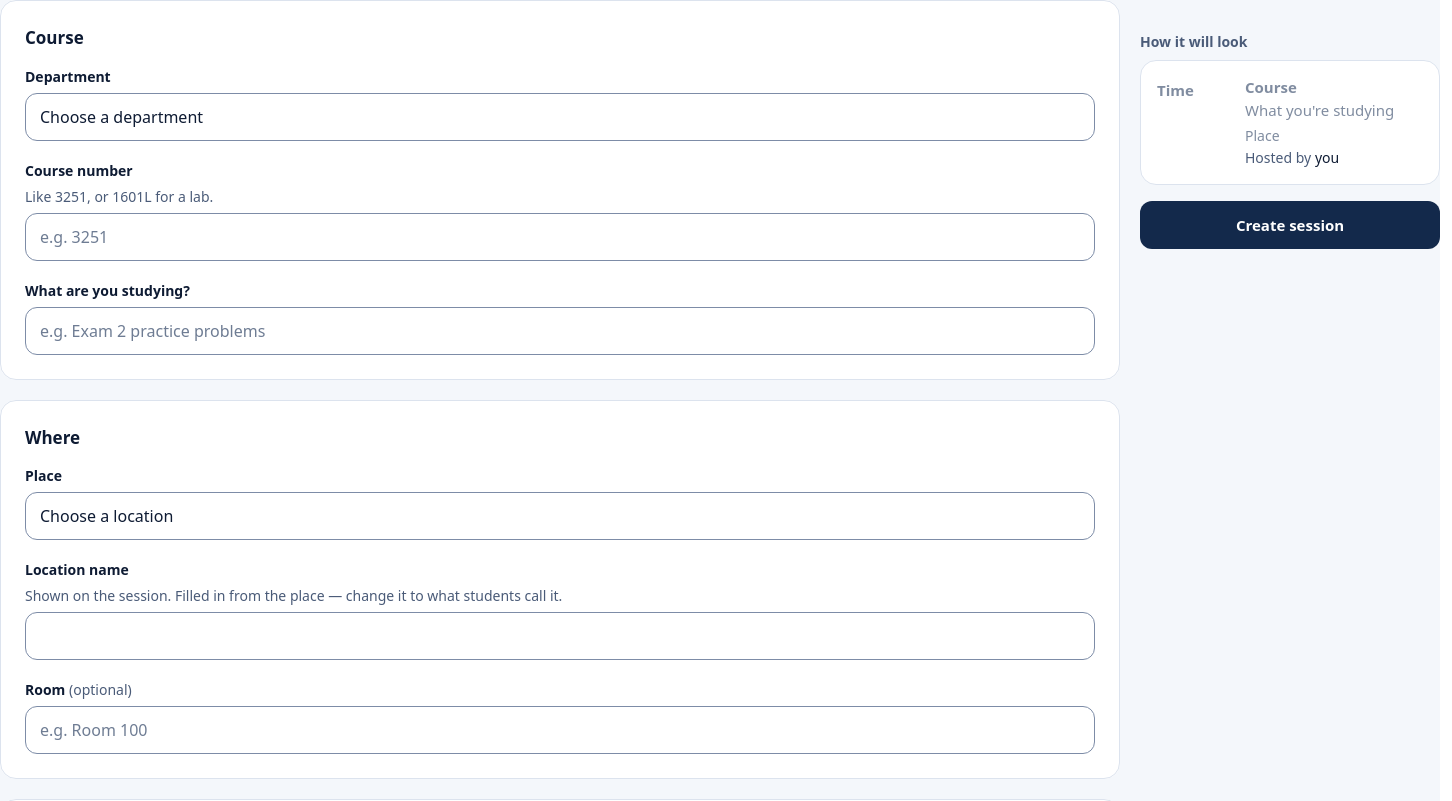
Scenario: <CreateSessionForm> course typeahead › looks courses up in a department the host is adding
Select "Add a department…" in the dropdown labelled "Department" at point(560, 116), box [25,92,1095,140]
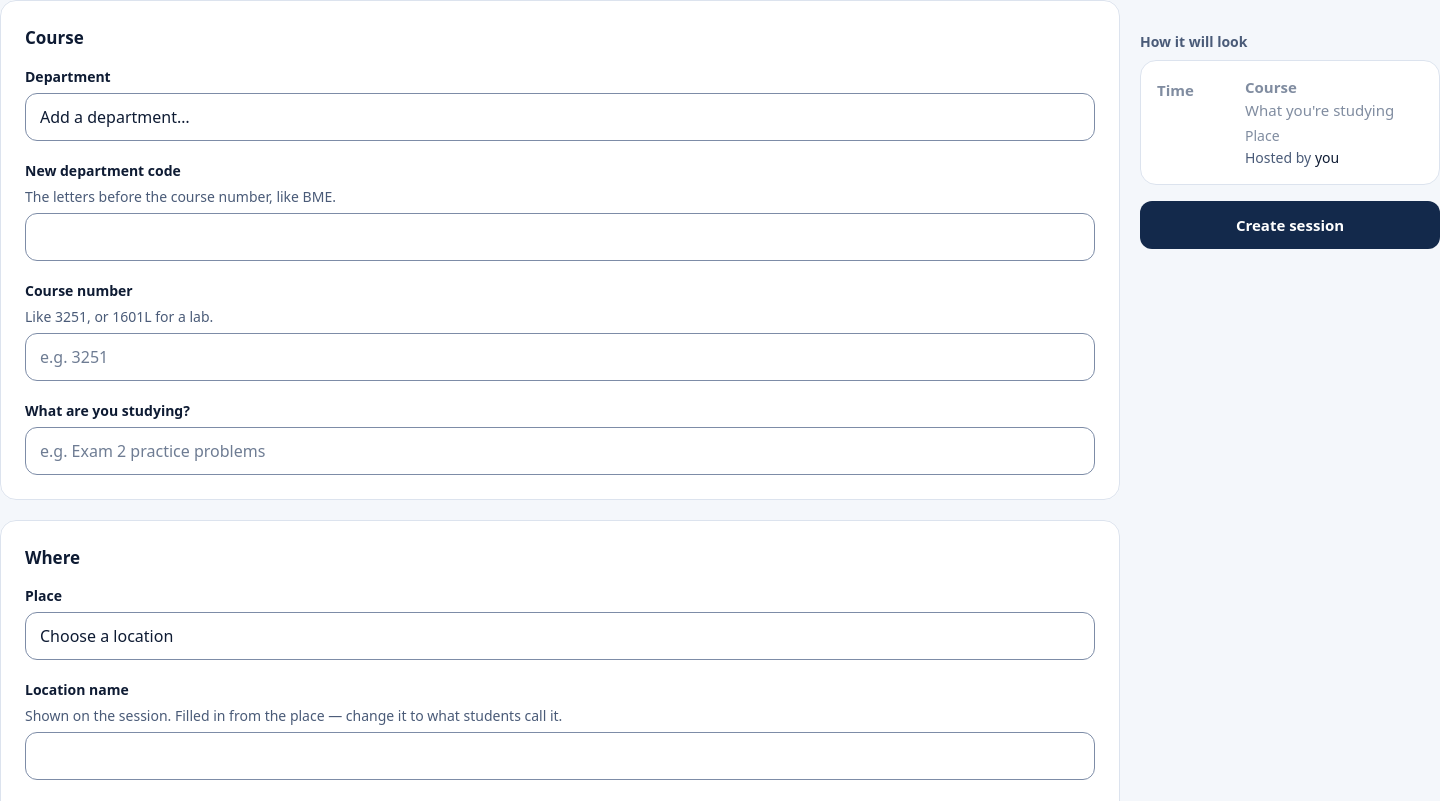
Type "BME" into the field labelled "New department code".
click(560, 236); type("BME")  # box [25,212,1095,260]
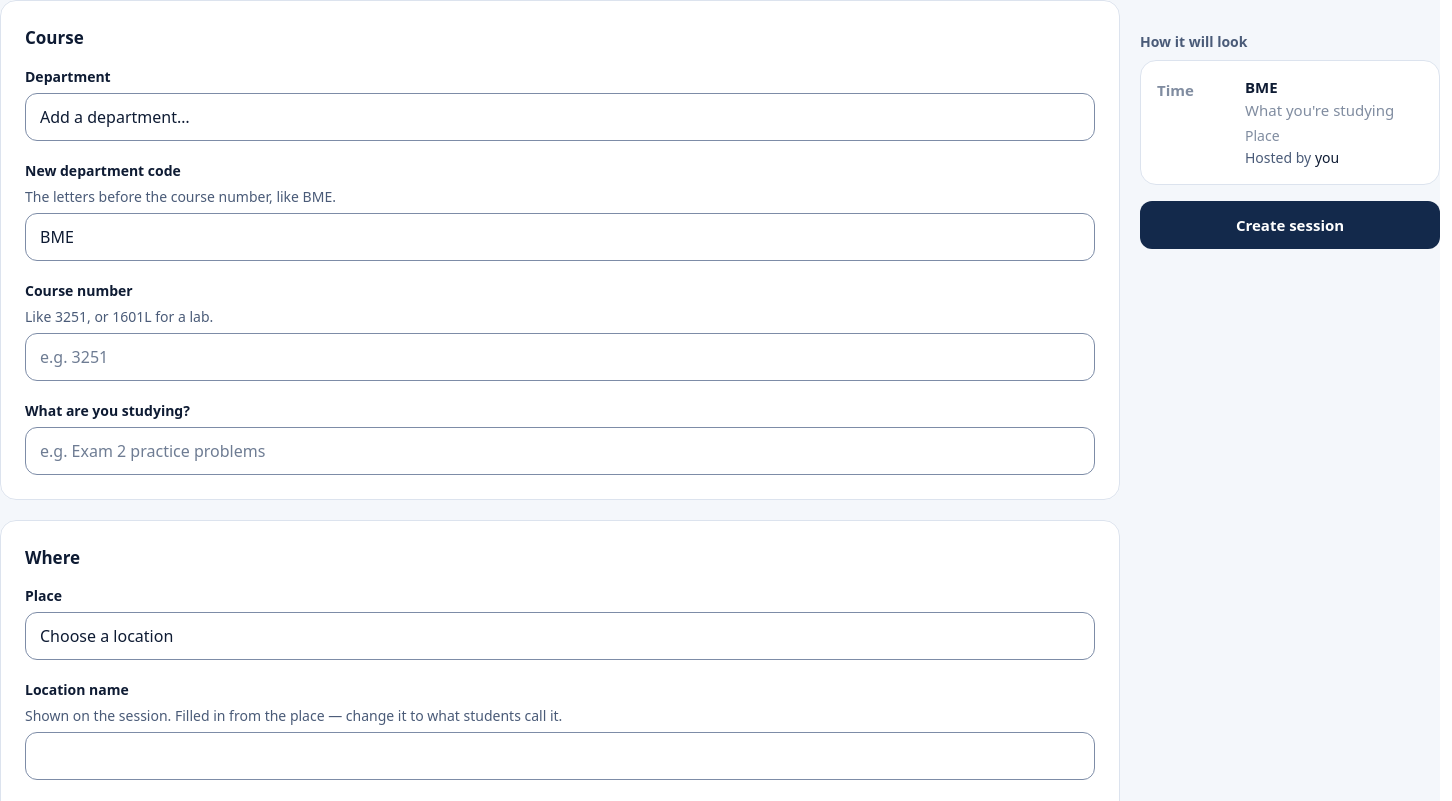
Type "1000" into the dropdown labelled "Course number".
click(560, 356); type("1000")  # box [25,332,1095,380]
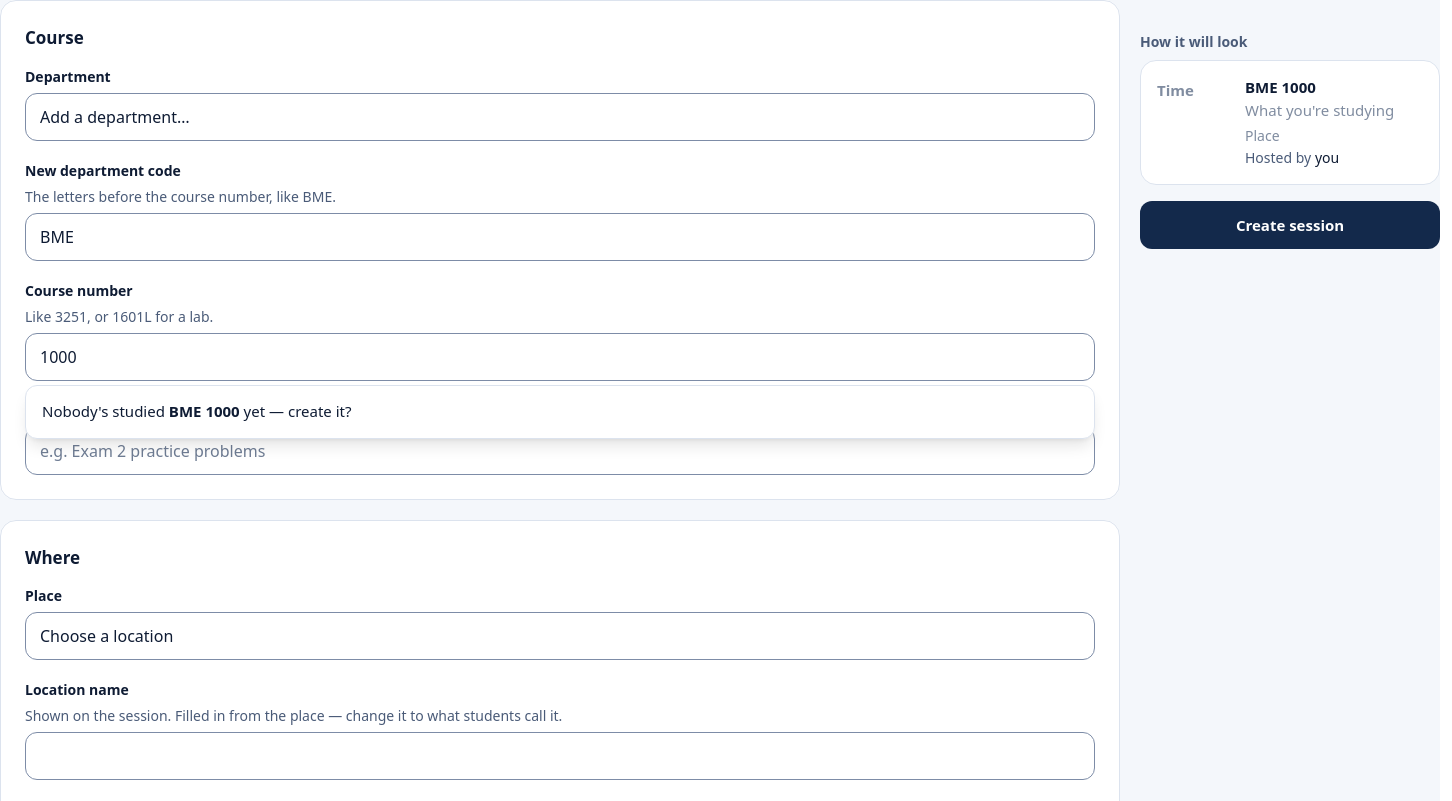
Expected: the option "Nobody's studied BME 1000 yet — create it?" is shown, [42,401,352,421]
